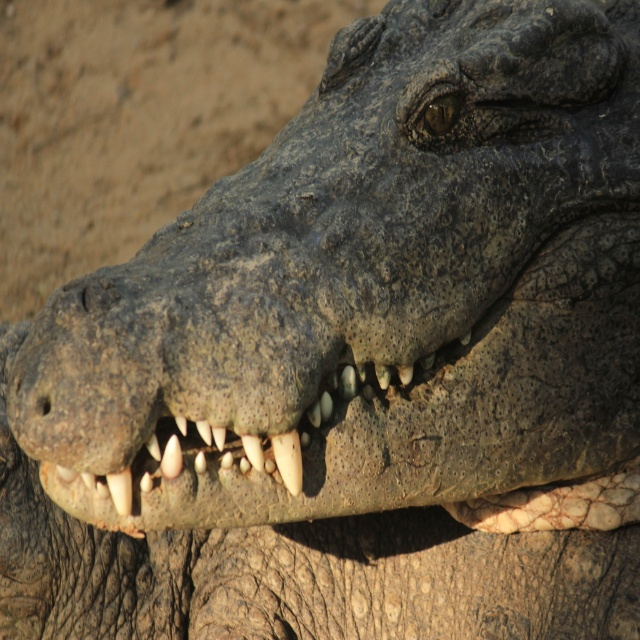Crocodile: (0, 0, 640, 539), (0, 317, 640, 640)
